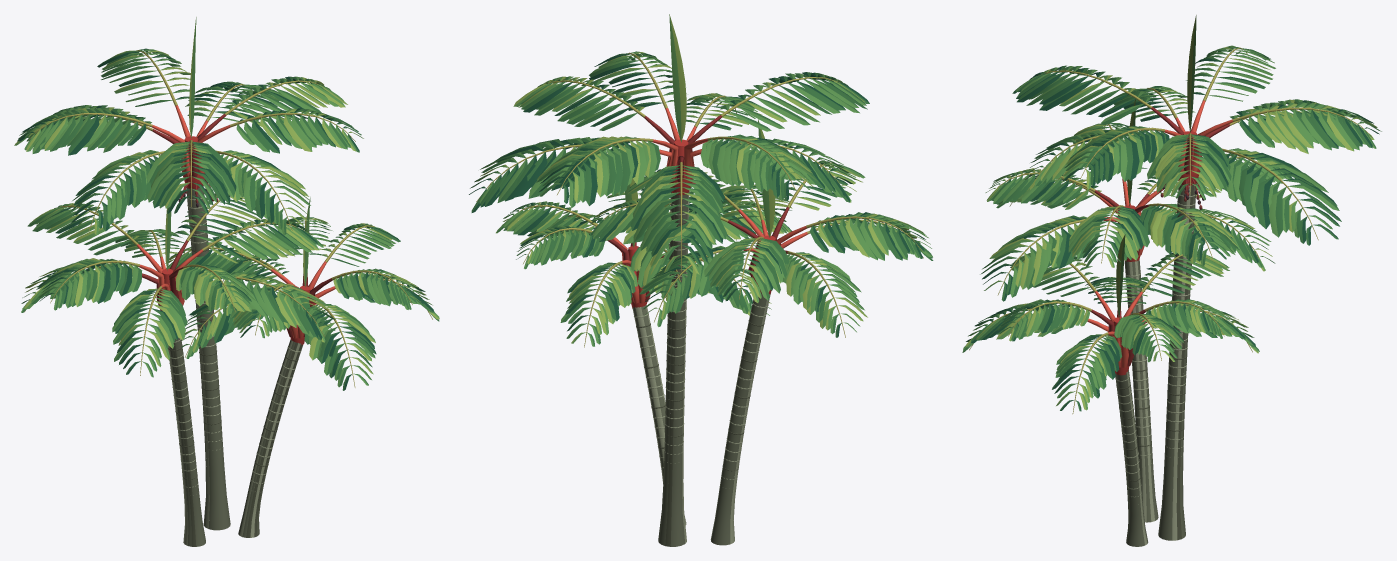
3 views of the same model, side by side, from view 1: azimuth 30°, elevation 25°; view 2: azimuth 150°, elevation 25°; view 3: azimuth 270°, elevation 25° (orthographic). The views are drawn at different scales.
Visible parts, largest first — view 1: Palm Foliage, Clumping Trunks, Frond Axes, Crimson Crownshafts; view 2: Palm Foliage, Clumping Trunks, Frond Axes, Crimson Crownshafts; view 3: Palm Foliage, Clumping Trunks, Frond Axes, Crimson Crownshafts.
Part boxes in pixels (x1=…): Palm Foliage: x1=14, y1=17, x2=439, y2=390; Clumping Trunks: x1=168, y1=185, x2=302, y2=546; Frond Axes: x1=24, y1=50, x2=432, y2=387; Crimson Crownshafts: x1=137, y1=105, x2=335, y2=344; Palm Foliage: x1=469, y1=14, x2=933, y2=346; Clumping Trunks: x1=632, y1=192, x2=770, y2=546; Frond Axes: x1=476, y1=52, x2=923, y2=347; Crimson Crownshafts: x1=607, y1=108, x2=807, y2=308; Palm Foliage: x1=962, y1=15, x2=1381, y2=411; Clumping Trunks: x1=1115, y1=183, x2=1196, y2=546; Frond Axes: x1=969, y1=47, x2=1372, y2=414; Crimson Crownshafts: x1=1087, y1=100, x2=1233, y2=375.
Bounding box in the file's own units: 5.16 × 6.52 × 4.81.
